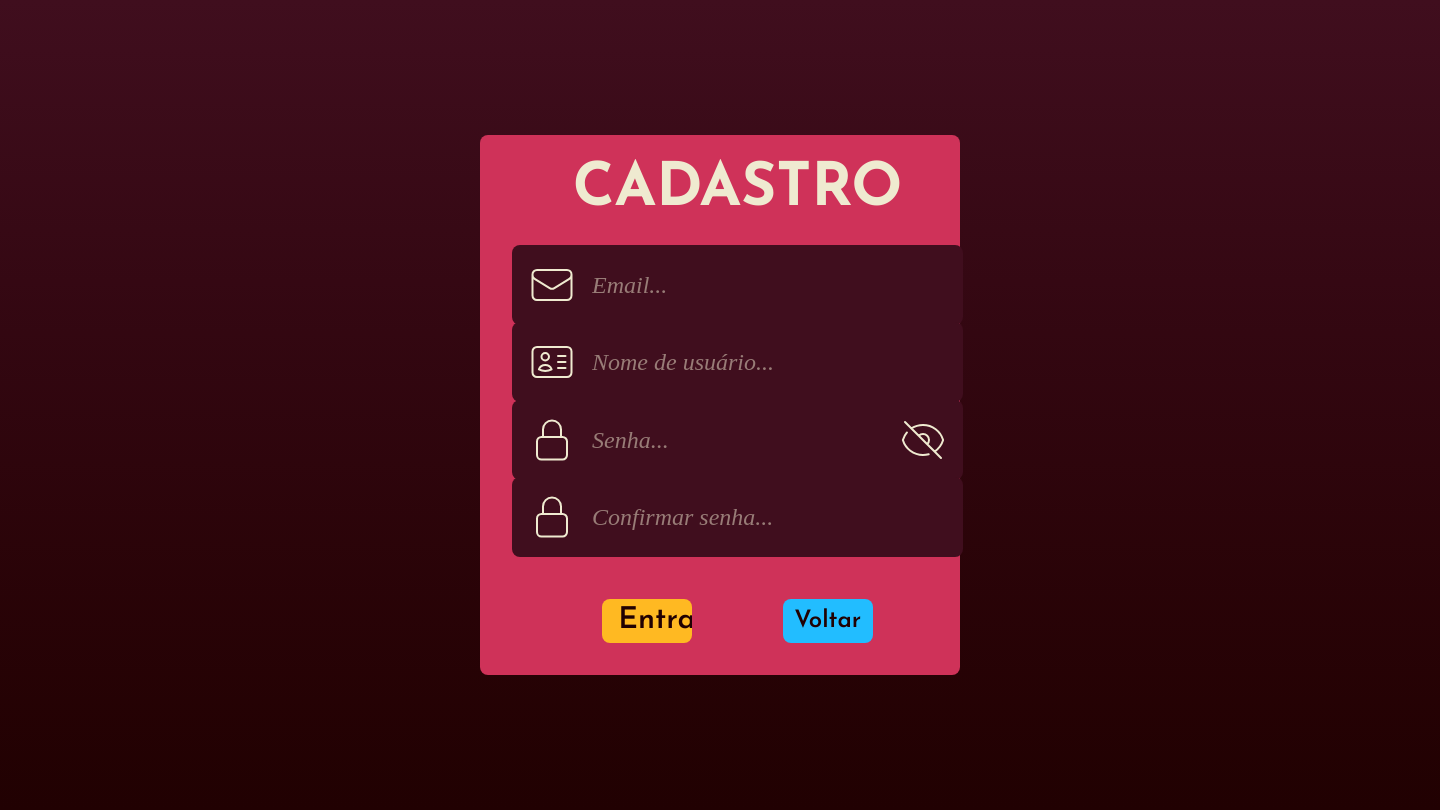
Componente Signup › Cenário: cadastro com informações inválidas
Note: DADO QUE eu preenchi dados inválidos...
Type "abcde" into the field with placeholder "Email..." at (762, 285), box [592,269,931,301]
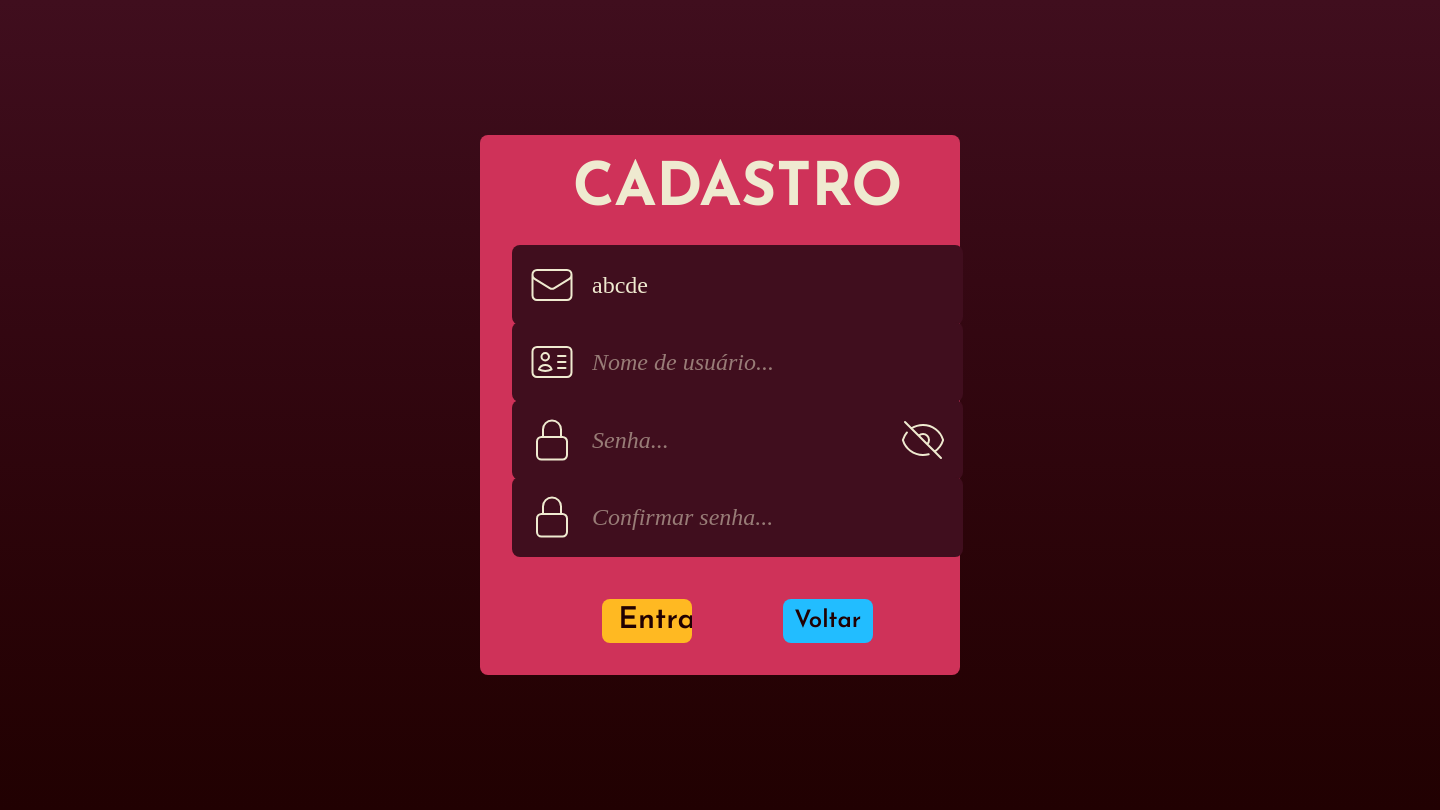
Type "!@#!@!##@@" into the field with placeholder "Nome de usuário..." at (762, 362), box [592,346,931,378]
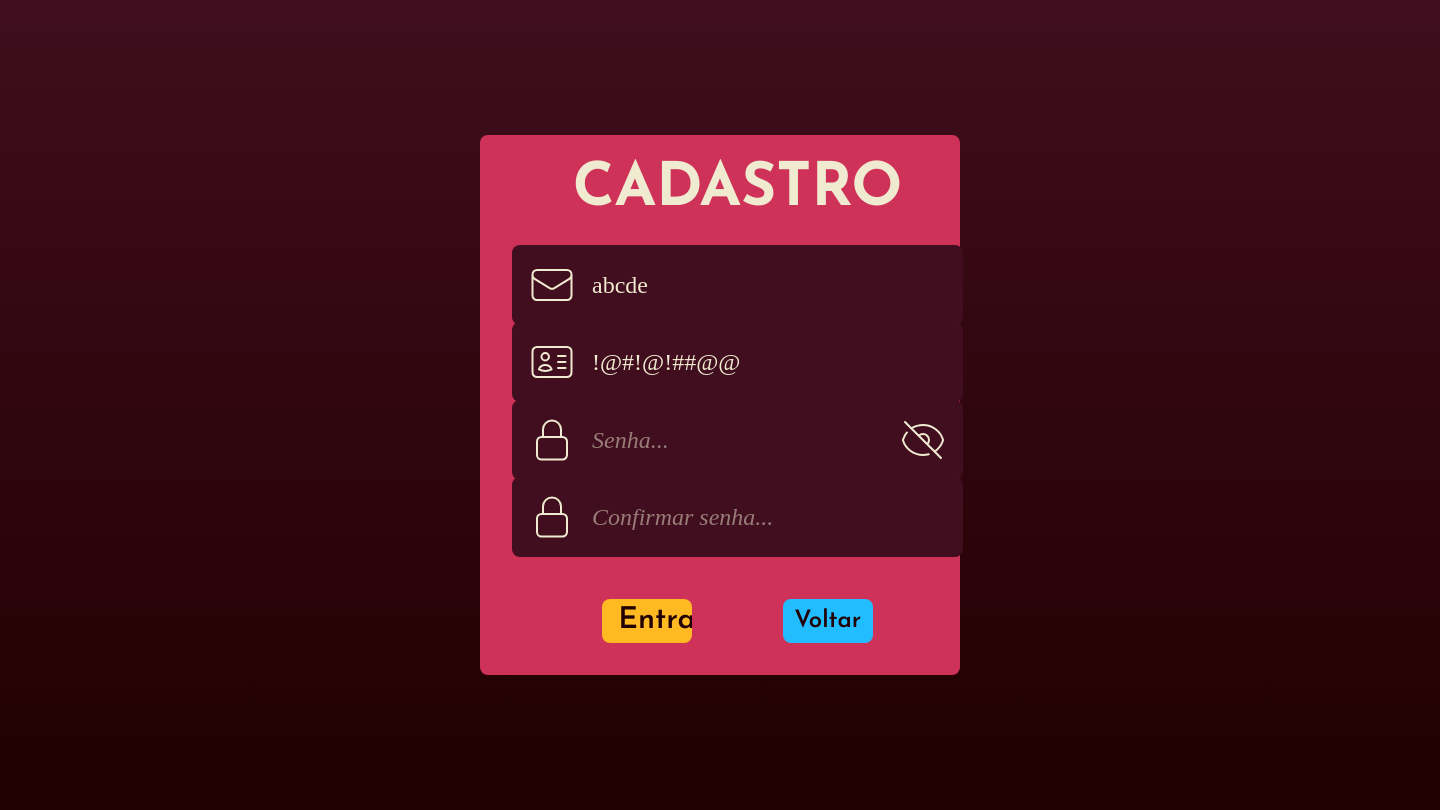
Type "bad" into the password field with placeholder "Senha..." at (738, 440), box [592,424,883,456]
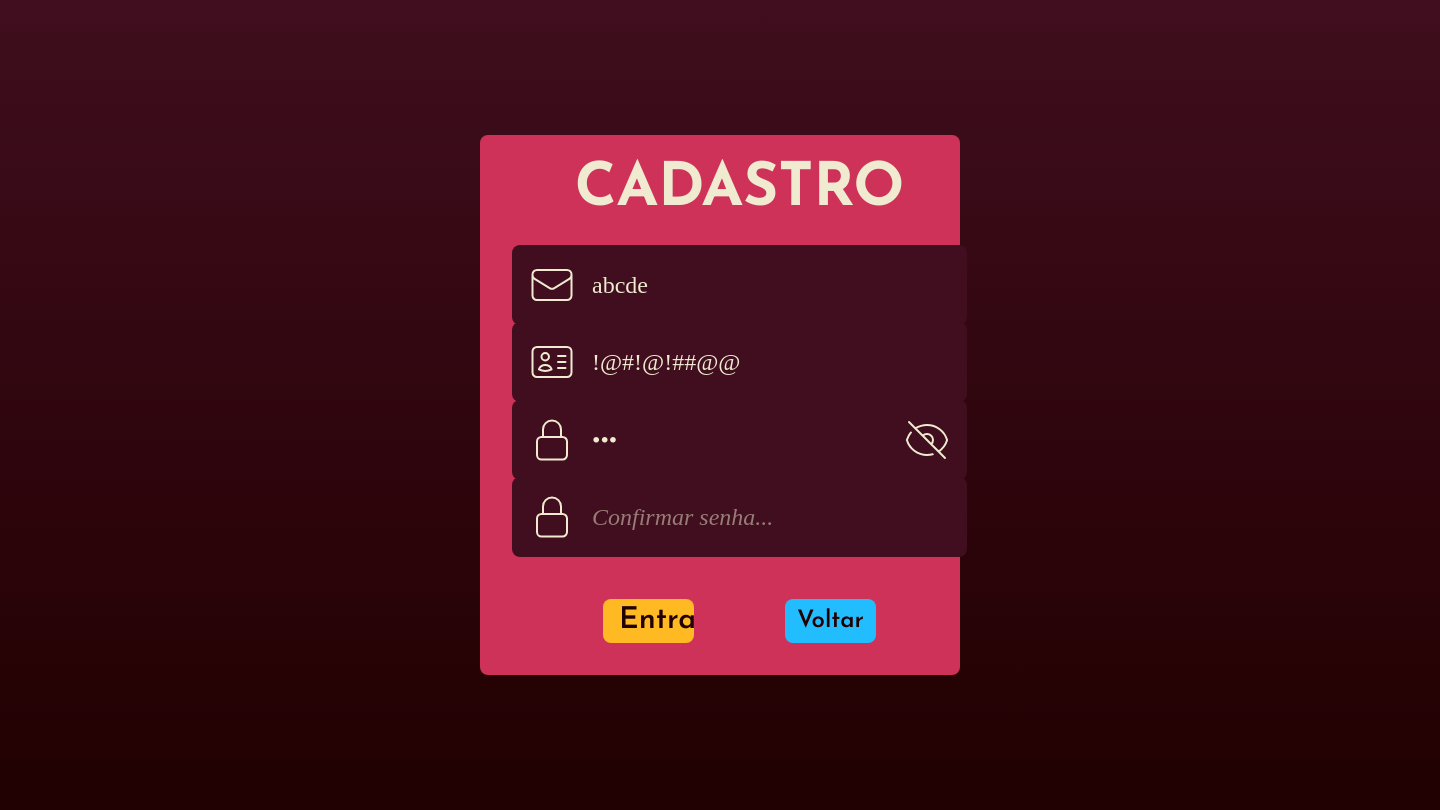
Type "bad" into the password field with placeholder "Confirmar senha..." at (764, 517), box [592,501,935,533]
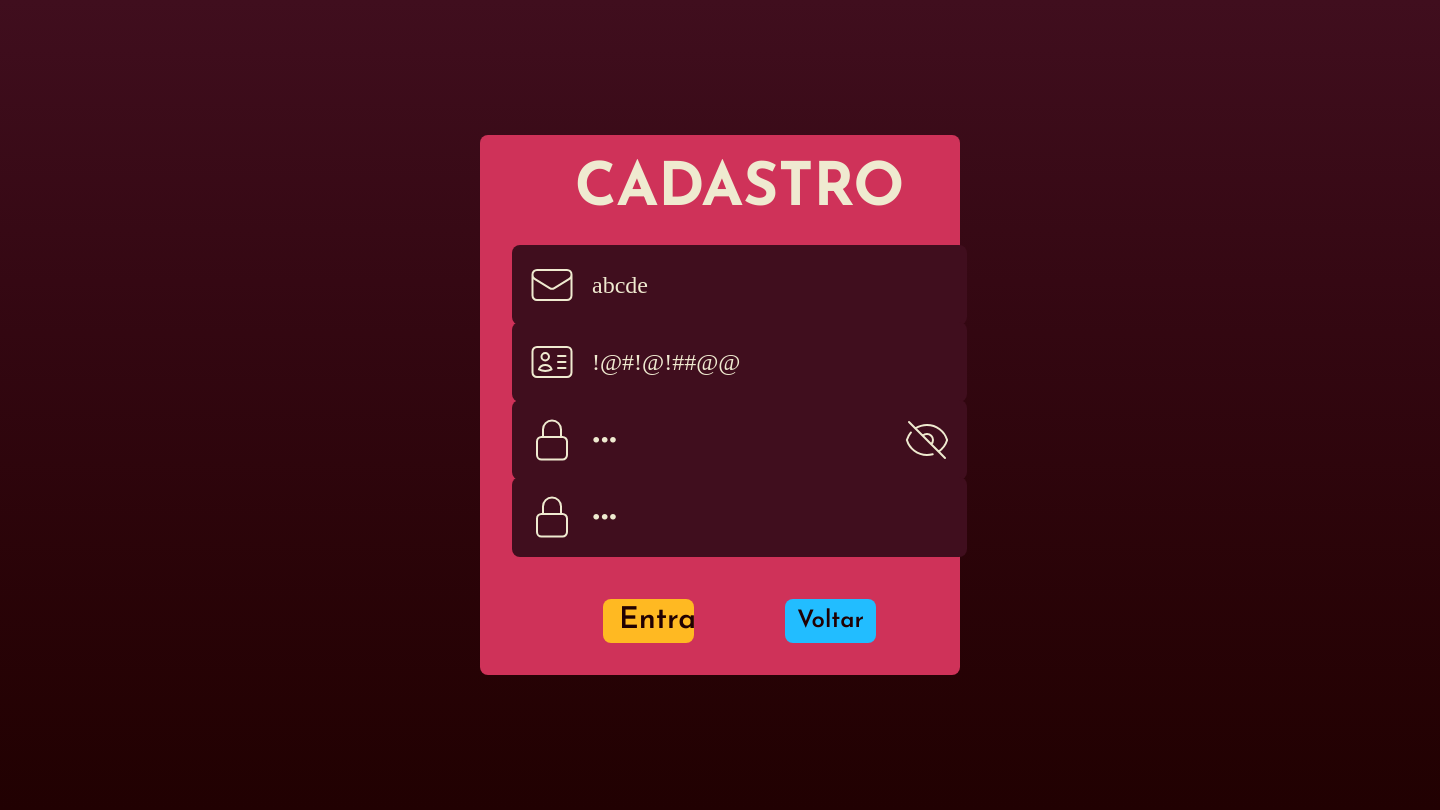
Note: QUANDO eu clico em entrar...
Click the button "Entrar" at (648, 621), box [603,599,694,643]
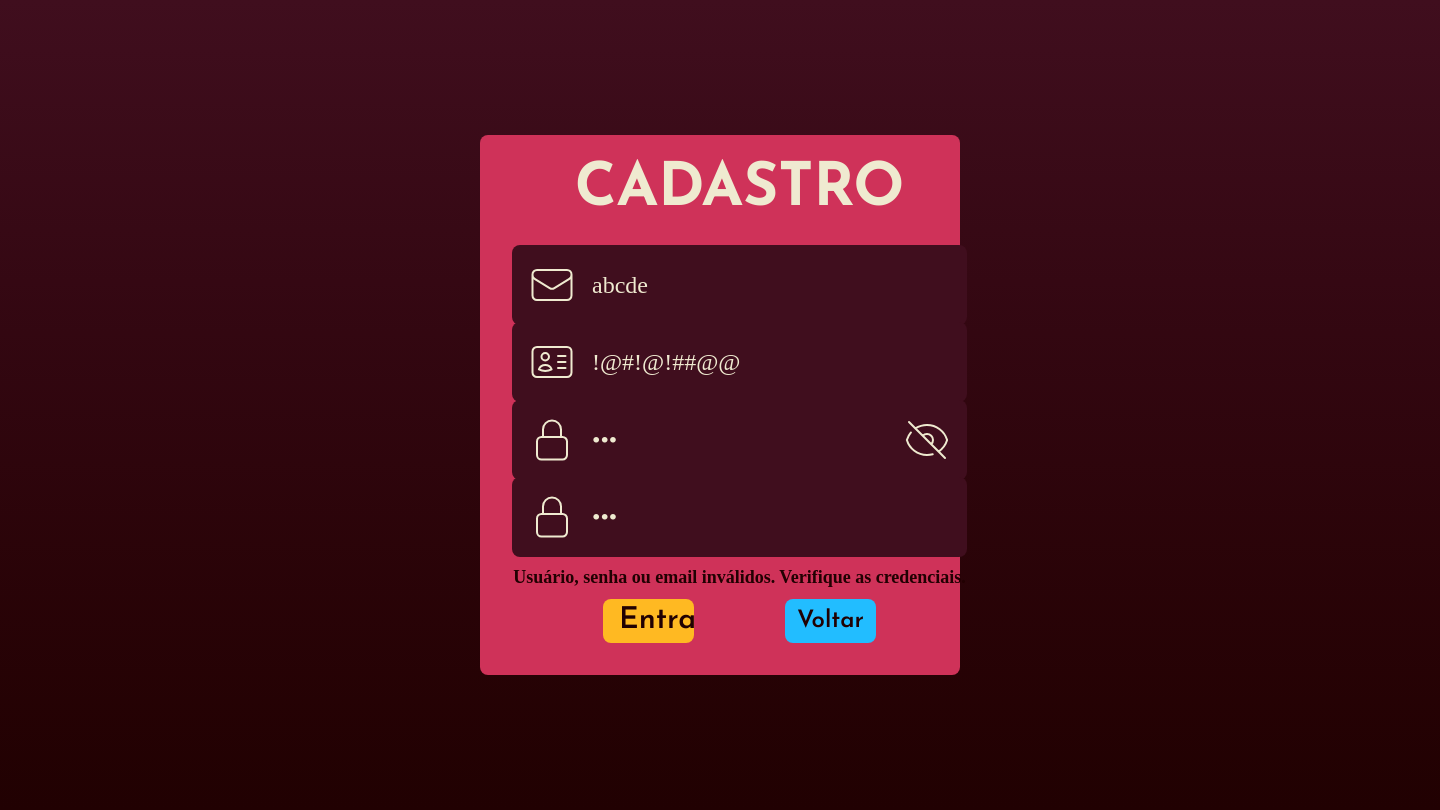
Expected: the text with test id "error-text" reads "Usuário, senha ou email inválidos. Verifique as credenciais.", [513,567,966,587]
